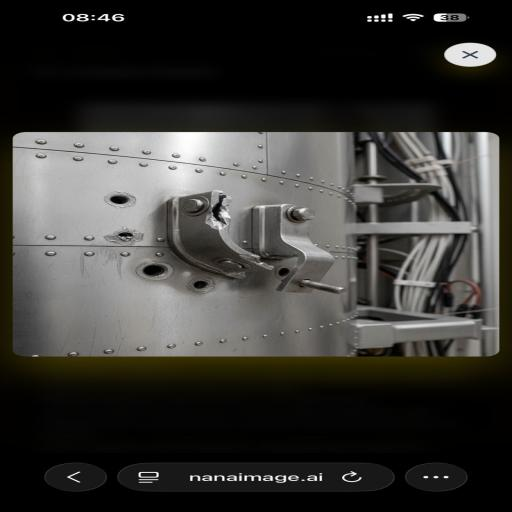fastening deformation: (205, 189, 245, 243)
lack of details: (110, 226, 145, 256)
